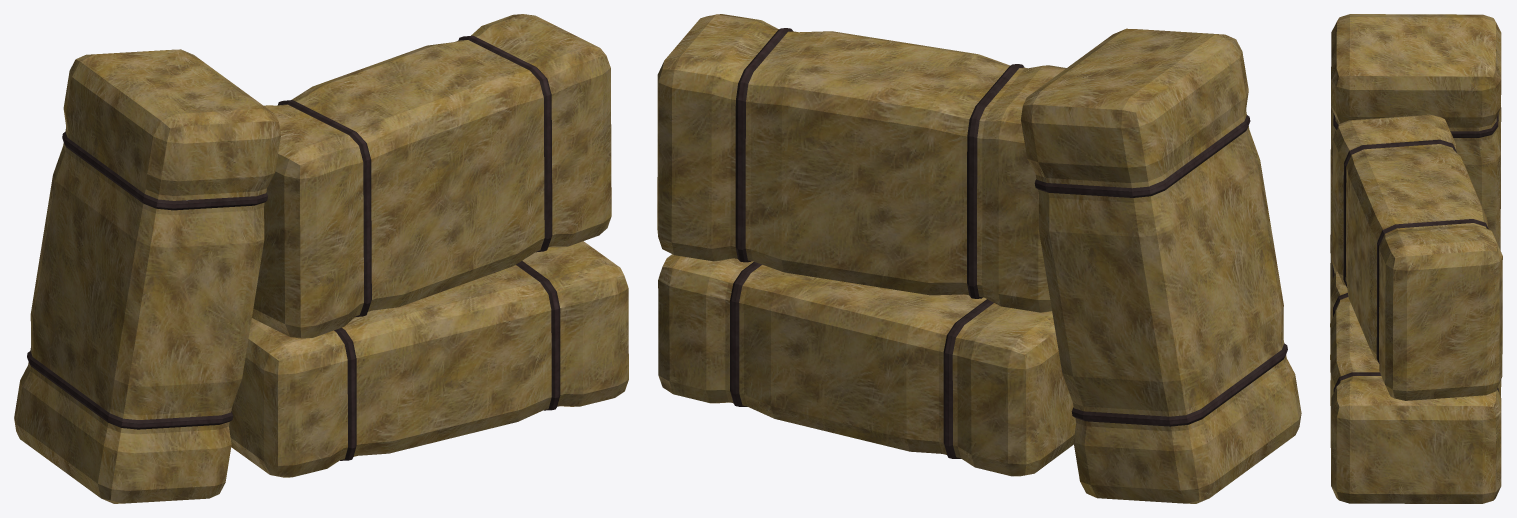
3 renders of one model, left to right at view 1: azimuth 30°, elevation 25°; view 2: azimuth 150°, elevation 25°; view 3: azimuth 270°, elevation 25°, orthographic. The views are drawn at different scales.
Parts seen in each view (by area): view 1: O6_Hay; view 2: O6_Hay; view 3: O6_Hay.
Part boxes in pixels (x1,y1,x2,y2): O6_Hay: (14,14,628,503); O6_Hay: (657,14,1301,503); O6_Hay: (1330,14,1502,503).
Bounding box in the file's own units: 437 × 300 × 148.
Materials: 1 (1 with a texture image).
